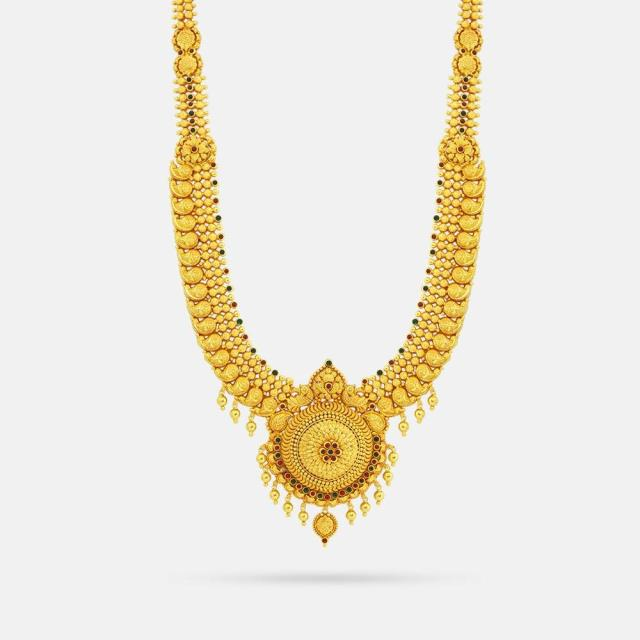missing gem: (287, 378, 293, 385), (281, 467, 286, 472)
